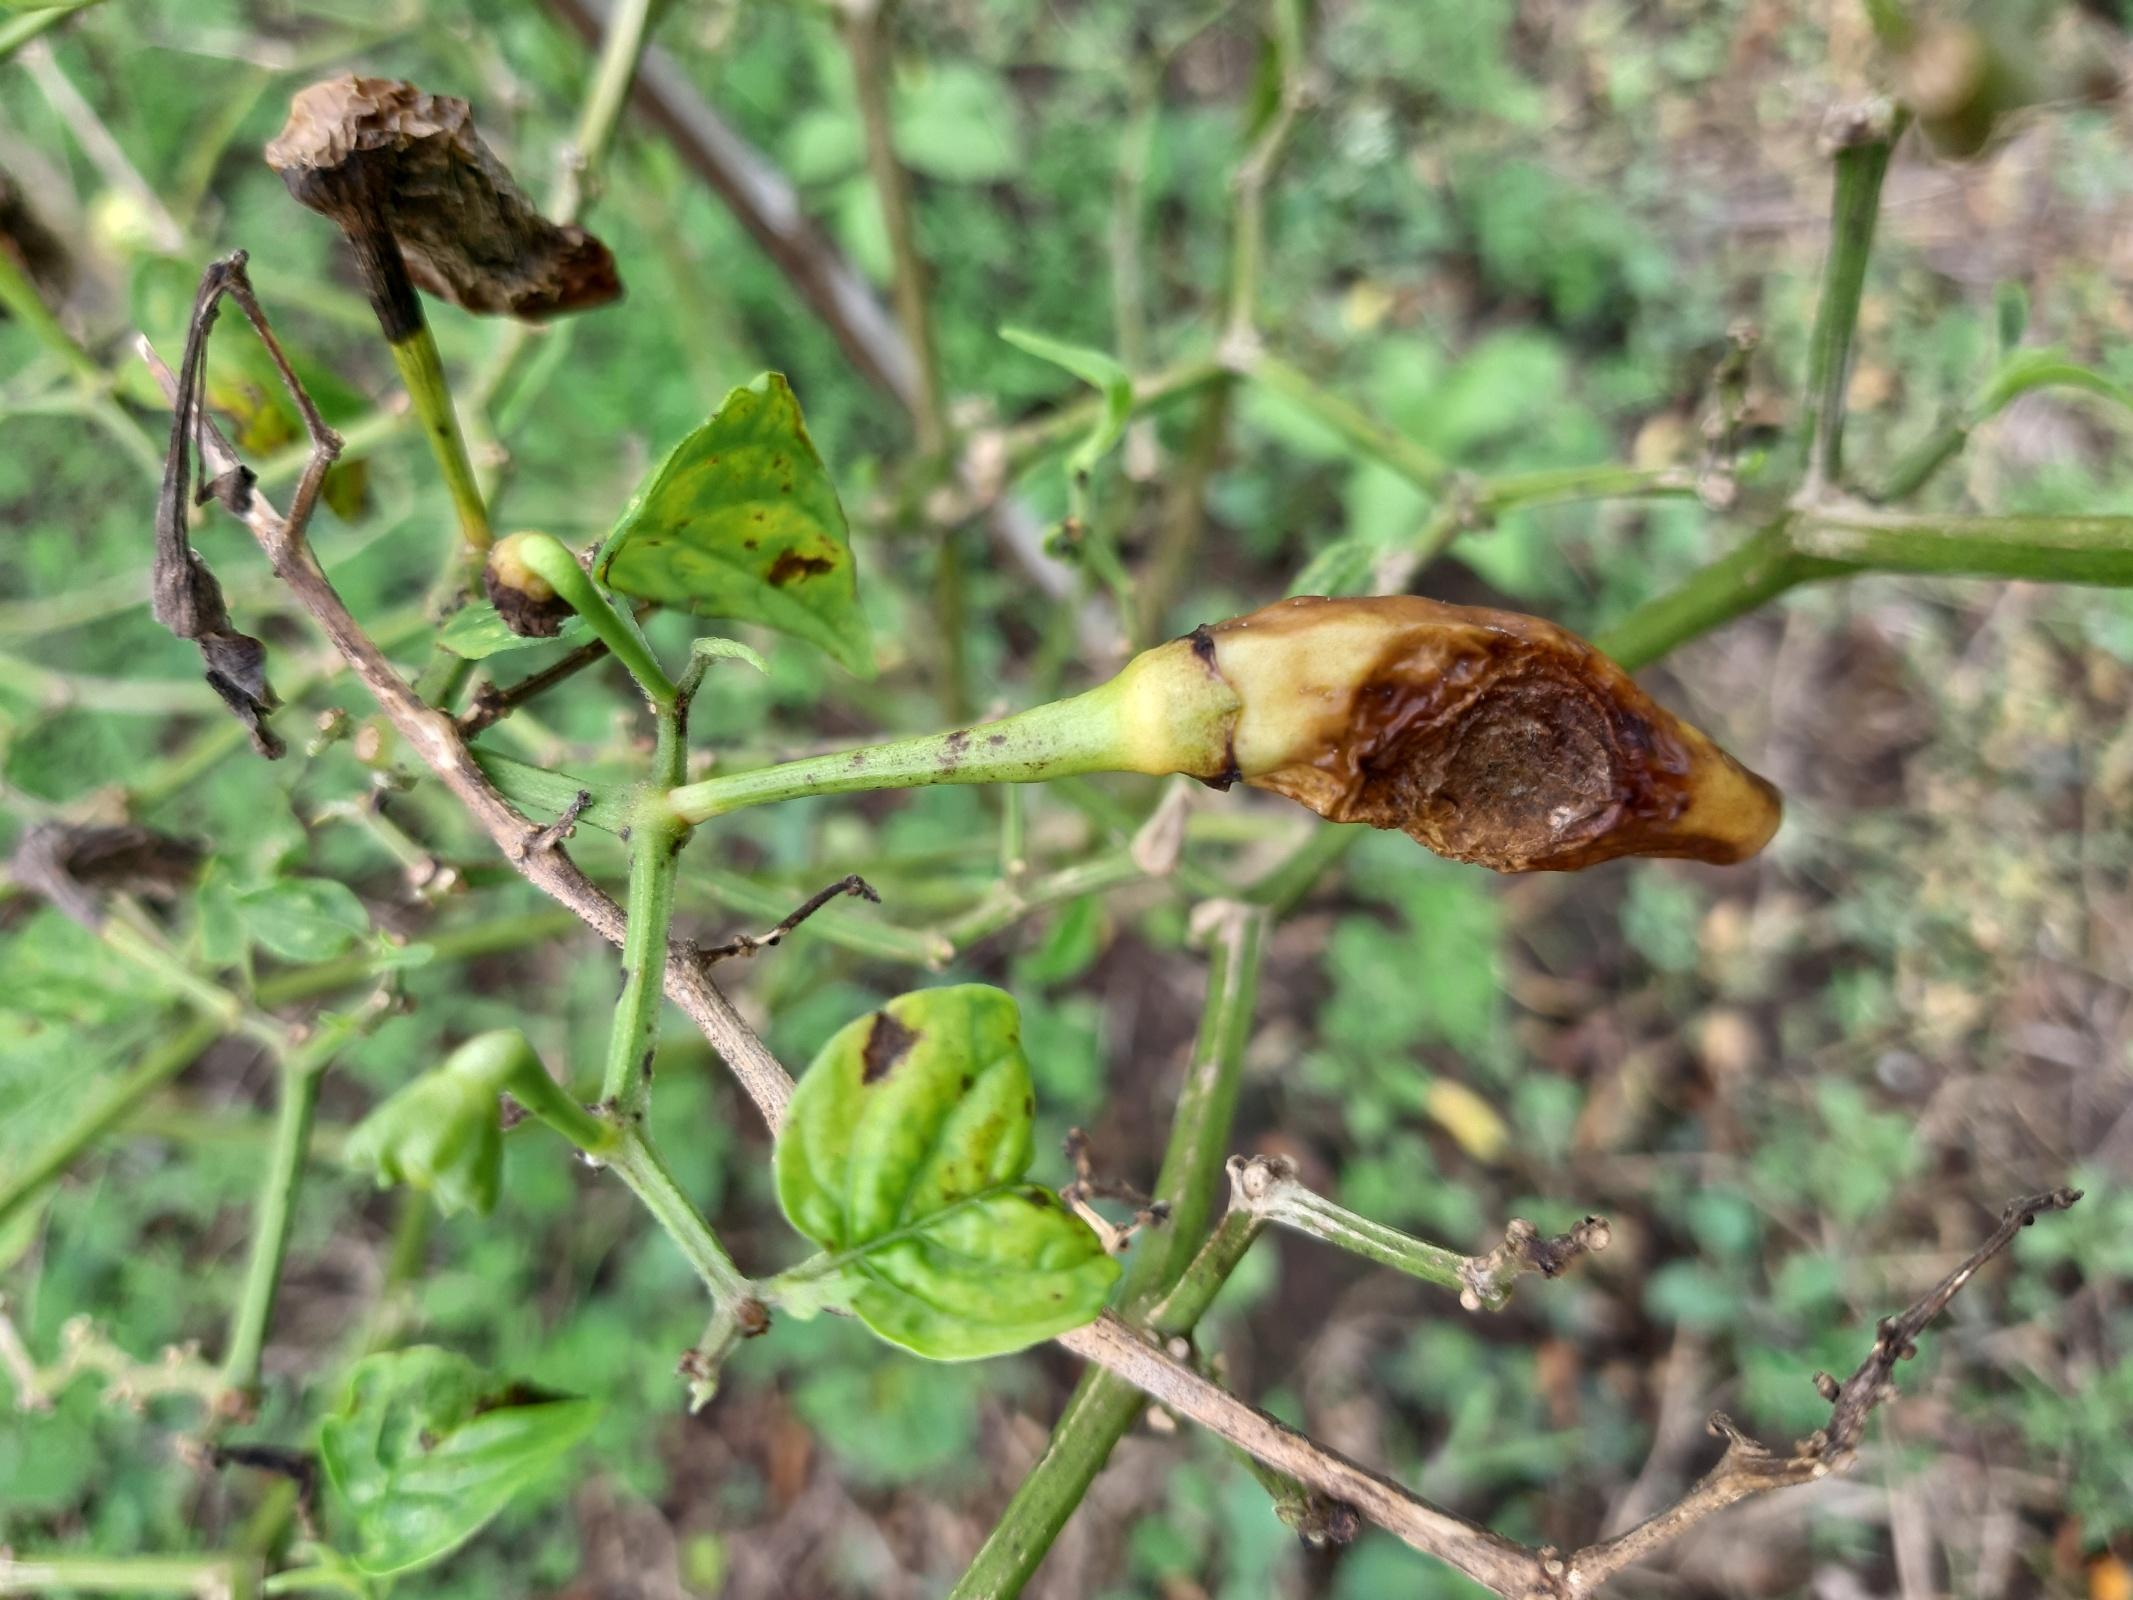antraknosa: (1207, 588, 1787, 876), (291, 72, 625, 321)
